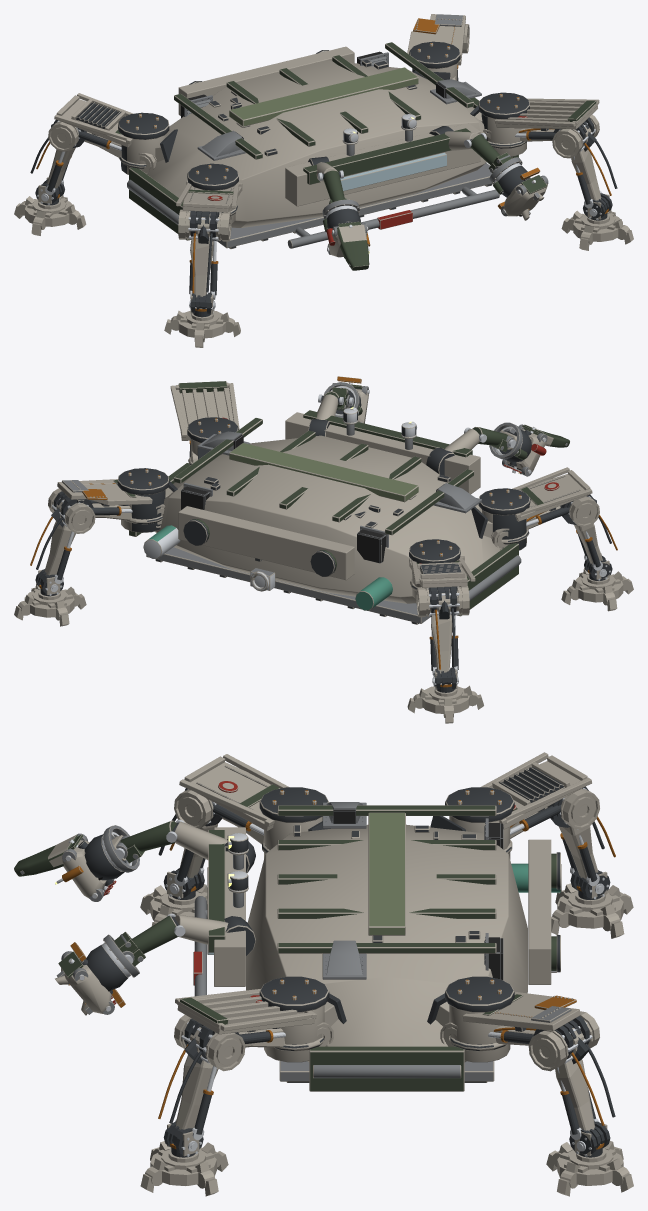
Rendered from crab_walker_4.fbx.
3 renders of one model, top to bottom at view 1: azimuth 30°, elevation 25°; view 2: azimuth 150°, elevation 25°; view 3: azimuth 270°, elevation 25°, orthographic. The views are drawn at different scales.
Visible parts, largest first — view 1: Mesh_Crab_Carapace, Mesh_Crab_Prow, Mesh_Crab_Underbelly, Mesh_Leg_F1_Lower, Mesh_Claw_N_Palm, Mesh_Leg_F2_Shroud, Mesh_Leg_F2_Lower, Mesh_Claw_P_Palm, Mesh_Leg_A1_Shroud, Mesh_Leg_F1_Foot, Mesh_Leg_F2_Foot, Mesh_Leg_A1_Foot (+10 smaller); view 2: Mesh_Crab_Carapace, Mesh_Crab_Stern, Mesh_Crab_Underbelly, Mesh_Crab_Prow, Mesh_Leg_A1_Lower, Mesh_Leg_F2_Shroud, Mesh_Leg_A2_Lower, Mesh_Leg_F1_Shroud, Mesh_Leg_A1_Foot, Mesh_Leg_A2_Foot, Mesh_Claw_N_Palm, Mesh_Leg_F1_Foot (+12 smaller); view 3: Mesh_Crab_Carapace, Mesh_Crab_Underbelly, Mesh_Crab_Prow, Mesh_Crab_Stern, Mesh_Leg_A2_Lower, Mesh_Leg_F2_Lower, Mesh_Claw_N_Palm, Mesh_Leg_F2_Shroud, Mesh_Leg_F1_Shroud, Mesh_Leg_A1_Shroud, Mesh_Leg_F2_Foot, Mesh_Leg_A2_Foot (+15 smaller).
Boxes of the visible parts, x1,y1,x2,y2 form: Mesh_Crab_Carapace: [118, 41, 529, 227]; Mesh_Crab_Prow: [285, 114, 499, 248]; Mesh_Crab_Underbelly: [127, 97, 518, 248]; Mesh_Leg_F1_Lower: [178, 209, 231, 299]; Mesh_Claw_N_Palm: [322, 199, 370, 270]; Mesh_Leg_F2_Shroud: [495, 98, 599, 131]; Mesh_Leg_F2_Lower: [552, 114, 601, 208]; Mesh_Claw_P_Palm: [489, 157, 548, 216]; Mesh_Leg_A1_Shroud: [54, 93, 132, 147]; Mesh_Leg_F1_Foot: [164, 292, 240, 347]; Mesh_Leg_F2_Foot: [561, 193, 633, 250]; Mesh_Leg_A1_Foot: [14, 177, 86, 235]; Mesh_Crab_Carapace: [117, 417, 530, 603]; Mesh_Crab_Stern: [143, 506, 392, 610]; Mesh_Crab_Underbelly: [129, 463, 521, 624]; Mesh_Crab_Prow: [285, 407, 480, 494]; Mesh_Leg_A1_Lower: [416, 586, 469, 675]; Mesh_Leg_F2_Shroud: [170, 381, 239, 440]; Mesh_Leg_A2_Lower: [45, 488, 95, 583]; Mesh_Leg_F1_Shroud: [512, 467, 592, 521]; Mesh_Leg_A1_Foot: [407, 667, 483, 723]; Mesh_Leg_A2_Foot: [14, 569, 86, 626]; Mesh_Claw_N_Palm: [489, 422, 569, 476]; Mesh_Leg_F1_Foot: [561, 553, 633, 611]; Mesh_Crab_Carapace: [246, 787, 527, 1062]; Mesh_Crab_Underbelly: [279, 1046, 494, 1091]; Mesh_Crab_Prow: [193, 827, 248, 996]; Mesh_Crab_Stern: [511, 839, 561, 984]; Mesh_Leg_A2_Lower: [528, 1011, 599, 1140]; Mesh_Leg_F2_Lower: [174, 1014, 245, 1140]; Mesh_Claw_N_Palm: [14, 825, 139, 901]; Mesh_Leg_F2_Shroud: [175, 989, 316, 1034]; Mesh_Leg_F1_Shroud: [179, 754, 289, 831]; Mesh_Leg_A1_Shroud: [480, 752, 591, 829]; Mesh_Leg_F2_Foot: [140, 1121, 228, 1196]; Mesh_Leg_A2_Foot: [546, 1121, 633, 1196].
Size of the model in its own units: 962 by 300 by 856.
